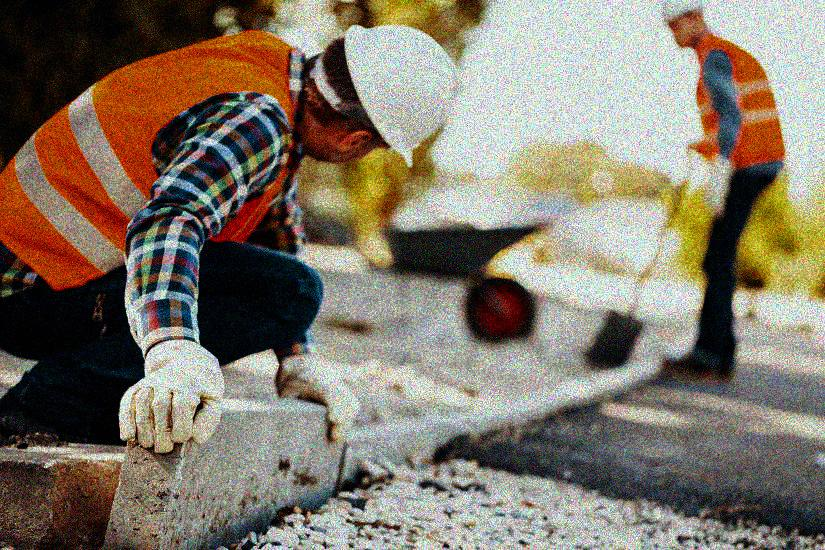helmet: (294, 23, 462, 172), (658, 1, 713, 51)
